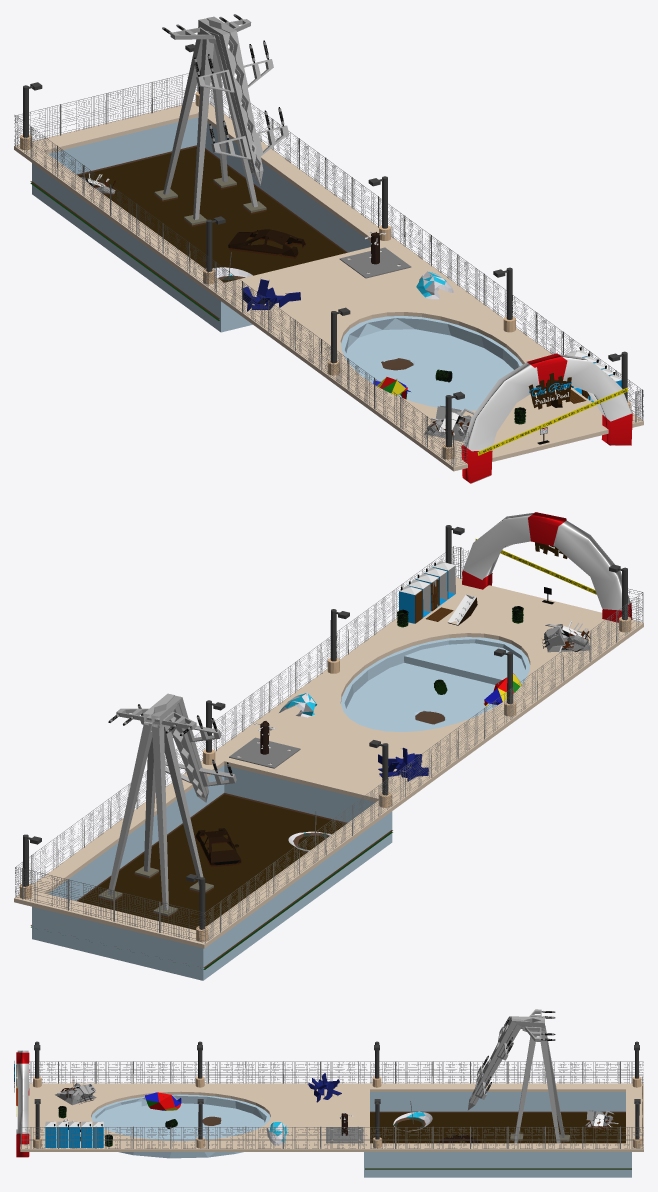
The model's file is Public Pool.glb.
3 renders of one model, top to bottom at view 1: azimuth 30°, elevation 25°; view 2: azimuth 150°, elevation 25°; view 3: azimuth 270°, elevation 25°, orthographic. The views are drawn at different scales.
Visible parts, largest first — view 1: Ground, Fence.002, Water, Pool, Kiddie Pool, Tower, Life Preserver, Light Pole, Shower, Car, Scrap.001, Beach Umbrella (+3 smaller); view 2: Ground, Pool, Fence.002, Water, Kiddie Pool, Tower, Life Preserver, Light Pole, Bathrooms, Shower, Scrap.001, Car (+2 smaller); view 3: Ground, Fence.002, Pool, Water, Kiddie Pool, Tower, Light Pole, Bathrooms, Life Preserver, Scrap.001, Beach Umbrella, Shower (+4 smaller).
Boxes of the visible parts, x1=… form: Ground: x1=14, y1=101, x2=643, y2=471; Fence.002: x1=14, y1=73, x2=643, y2=466; Water: x1=30, y1=145, x2=347, y2=320; Pool: x1=32, y1=117, x2=370, y2=332; Kiddie Pool: x1=341, y1=316, x2=522, y2=410; Tower: x1=154, y1=14, x2=288, y2=226; Life Preserver: x1=461, y1=353, x2=632, y2=483; Light Pole: x1=20, y1=44, x2=630, y2=459; Shower: x1=339, y1=231, x2=411, y2=278; Car: x1=228, y1=229, x2=305, y2=258; Scrap.001: x1=80, y1=173, x2=474, y2=441; Beach Umbrella: x1=373, y1=271, x2=453, y2=399; Ground: x1=14, y1=577, x2=643, y2=948; Pool: x1=32, y1=765, x2=392, y2=980; Fence.002: x1=15, y1=546, x2=643, y2=943; Water: x1=30, y1=793, x2=392, y2=969; Kiddie Pool: x1=341, y1=637, x2=529, y2=732; Tower: x1=98, y1=693, x2=236, y2=917; Life Preserver: x1=462, y1=512, x2=632, y2=622; Light Pole: x1=19, y1=525, x2=631, y2=941; Bathrooms: x1=399, y1=561, x2=455, y2=623; Shower: x1=229, y1=721, x2=300, y2=768; Scrap.001: x1=179, y1=621, x2=590, y2=925; Car: x1=195, y1=828, x2=241, y2=866; Ground: x1=20, y1=1083, x2=643, y2=1151; Fence.002: x1=20, y1=1061, x2=643, y2=1148; Pool: x1=364, y1=1092, x2=631, y2=1177; Water: x1=365, y1=1111, x2=631, y2=1169; Kiddie Pool: x1=91, y1=1094, x2=270, y2=1158; Tower: x1=467, y1=1009, x2=569, y2=1143; Light Pole: x1=33, y1=1041, x2=641, y2=1148; Bathrooms: x1=45, y1=1121, x2=103, y2=1147; Life Preserver: x1=16, y1=1050, x2=29, y2=1157; Scrap.001: x1=55, y1=1079, x2=618, y2=1129; Beach Umbrella: x1=144, y1=1092, x2=287, y2=1145; Shower: x1=326, y1=1112, x2=363, y2=1143.
Size of what is drawn, in the model's own units: 15.24 by 15 by 61.58.
